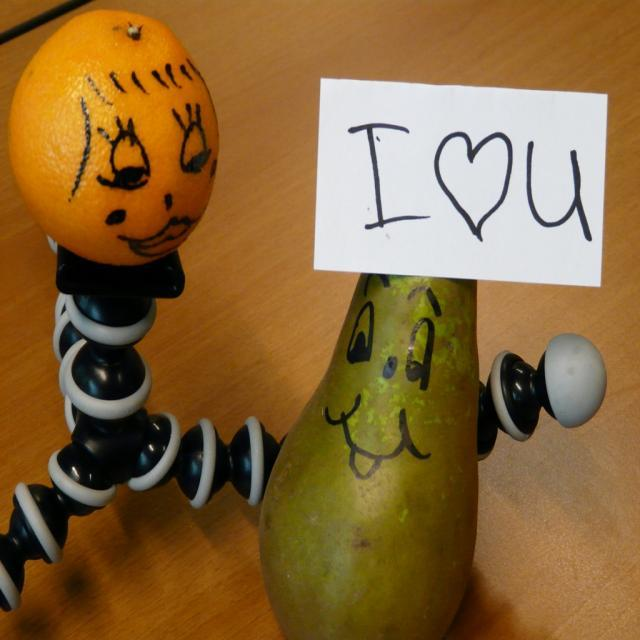Pear: (251, 254, 491, 640)
